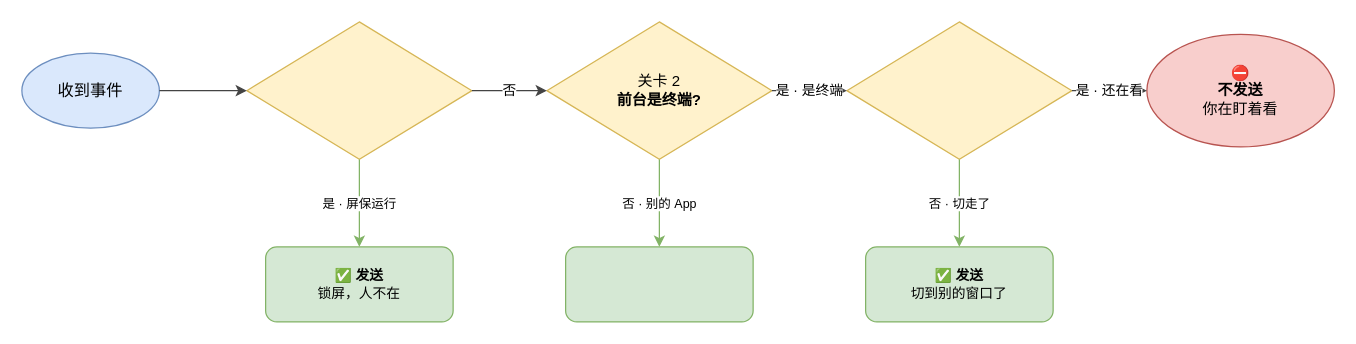
This 1356x344 diagram has some shape labels left out. The shapes that lost their labels are listed below. From the top down, each one's centre as x and y in pixels, then its label:
the point at 359,90: 关卡 1 锁屏了?
the point at 959,90: 关卡 3 还在发起窗口?
the point at 658,284: ✅ 发送 前台是别的 App
